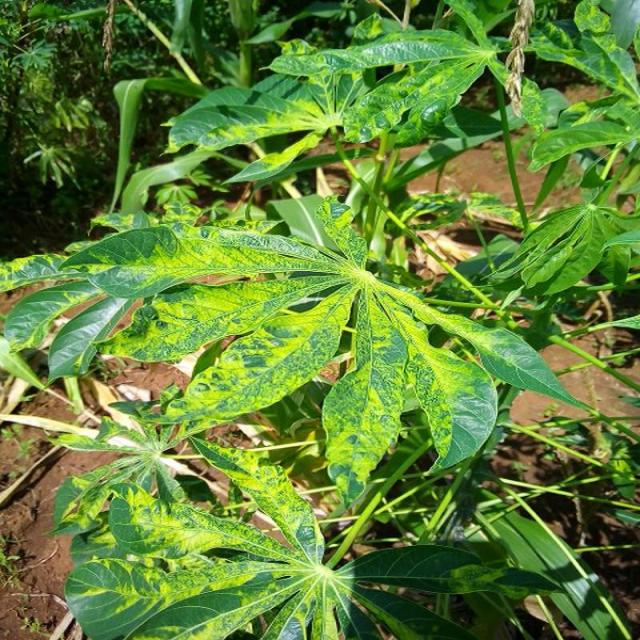cassava leaf: (3, 192, 598, 508)
